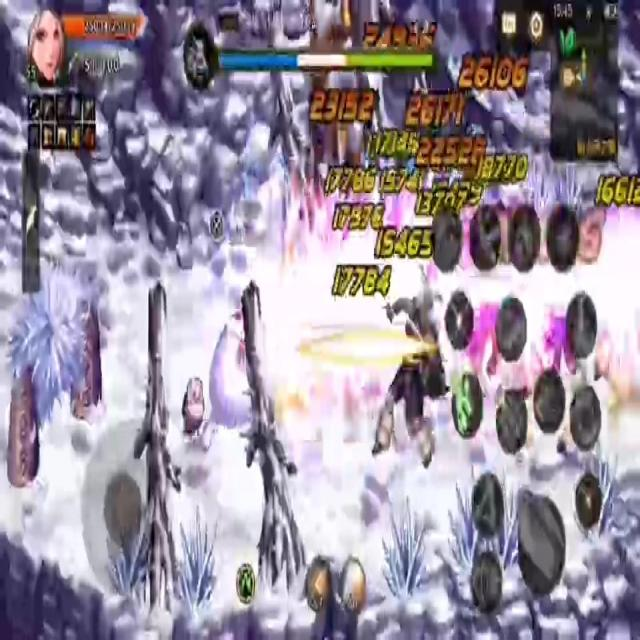player: (204, 301, 259, 453)
